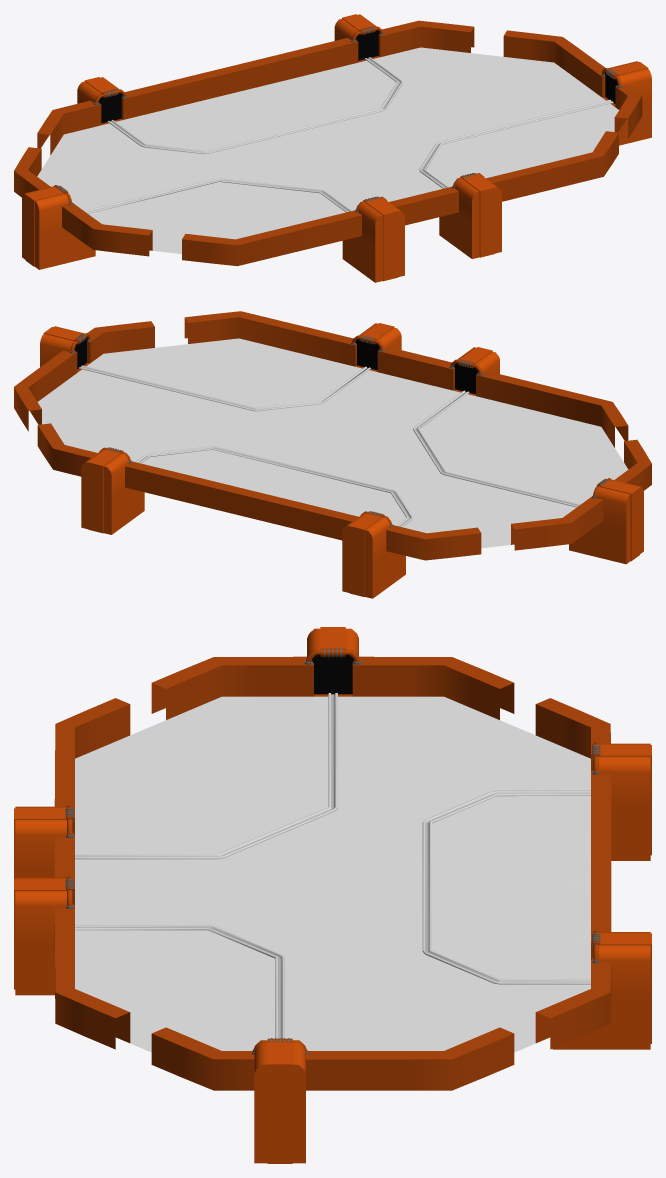
The model's file is mesh_Spaceship_Crown_WallAndFloor.fbx.
3 views of the same model, one above another, from view 1: azimuth 30°, elevation 25°; view 2: azimuth 150°, elevation 25°; view 3: azimuth 270°, elevation 25° (orthographic). The views are drawn at different scales.
Parts seen in each view (by area): view 1: CutedFloorBase.041, mesh_spaceship_Wall.001, mesh_spaceship_BarrelDoors.001, CutedFloorBase.035, CutedFloorBase.034, CutedFloorBase.031, CutedFloorBase.032, mesh_Spaceship_Rail.001, CutedFloorBase.038, mesh_Spaceship_Rail.003, CutedFloorBase.040, mesh_Spaceship_Rail.002 (+1 smaller); view 2: CutedFloorBase.041, mesh_spaceship_Wall.001, mesh_spaceship_BarrelDoors.001, CutedFloorBase.033, CutedFloorBase.036, CutedFloorBase.002, CutedFloorBase.030, CutedFloorBase.037, mesh_Spaceship_Rail.001, mesh_Spaceship_Rail.002, mesh_Spaceship_Rail.003, CutedFloorBase.039 (+1 smaller); view 3: CutedFloorBase.041, mesh_spaceship_Wall.001, mesh_spaceship_BarrelDoors.001, CutedFloorBase.036, CutedFloorBase.035, CutedFloorBase.033, CutedFloorBase.031, CutedFloorBase.032, CutedFloorBase.034, CutedFloorBase.002, CutedFloorBase.030, mesh_Spaceship_Rail.001 (+4 smaller).
Boxes of the visible parts, x1,y1,x2,y2 form: CutedFloorBase.041: (52, 65, 616, 240); mesh_spaceship_Wall.001: (14, 20, 642, 266); mesh_spaceship_BarrelDoors.001: (22, 14, 651, 282); CutedFloorBase.035: (64, 109, 189, 152); CutedFloorBase.034: (319, 47, 444, 89); CutedFloorBase.031: (243, 72, 342, 108); CutedFloorBase.032: (166, 91, 266, 127); mesh_Spaceship_Rail.001: (107, 57, 402, 154); CutedFloorBase.038: (421, 47, 564, 70); mesh_Spaceship_Rail.003: (84, 178, 351, 213); CutedFloorBase.040: (37, 135, 87, 186); mesh_Spaceship_Rail.002: (419, 99, 613, 188); CutedFloorBase.041: (39, 356, 613, 534); mesh_spaceship_Wall.001: (14, 311, 651, 560); mesh_spaceship_BarrelDoors.001: (40, 323, 643, 598); CutedFloorBase.033: (214, 338, 341, 381); CutedFloorBase.036: (473, 401, 600, 444); CutedFloorBase.002: (395, 382, 497, 419); CutedFloorBase.030: (318, 363, 419, 400); CutedFloorBase.037: (93, 338, 238, 361); mesh_Spaceship_Rail.001: (135, 446, 412, 527); mesh_Spaceship_Rail.002: (79, 365, 370, 411); mesh_Spaceship_Rail.003: (413, 390, 580, 507); CutedFloorBase.039: (577, 427, 628, 479); CutedFloorBase.041: (148, 696, 517, 1050); mesh_spaceship_Wall.001: (54, 648, 611, 1090); mesh_spaceship_BarrelDoors.001: (14, 627, 651, 1163); CutedFloorBase.036: (75, 758, 148, 833); CutedFloorBase.035: (517, 758, 590, 833); CutedFloorBase.033: (75, 945, 148, 1020); CutedFloorBase.031: (517, 889, 590, 945); CutedFloorBase.032: (517, 833, 590, 889); CutedFloorBase.034: (517, 945, 590, 1020); CutedFloorBase.002: (75, 833, 148, 889); CutedFloorBase.030: (75, 889, 148, 945); mesh_Spaceship_Rail.001: (422, 790, 590, 984).
Size of the model in its own units: 65.14 by 7.04 by 40.18.
